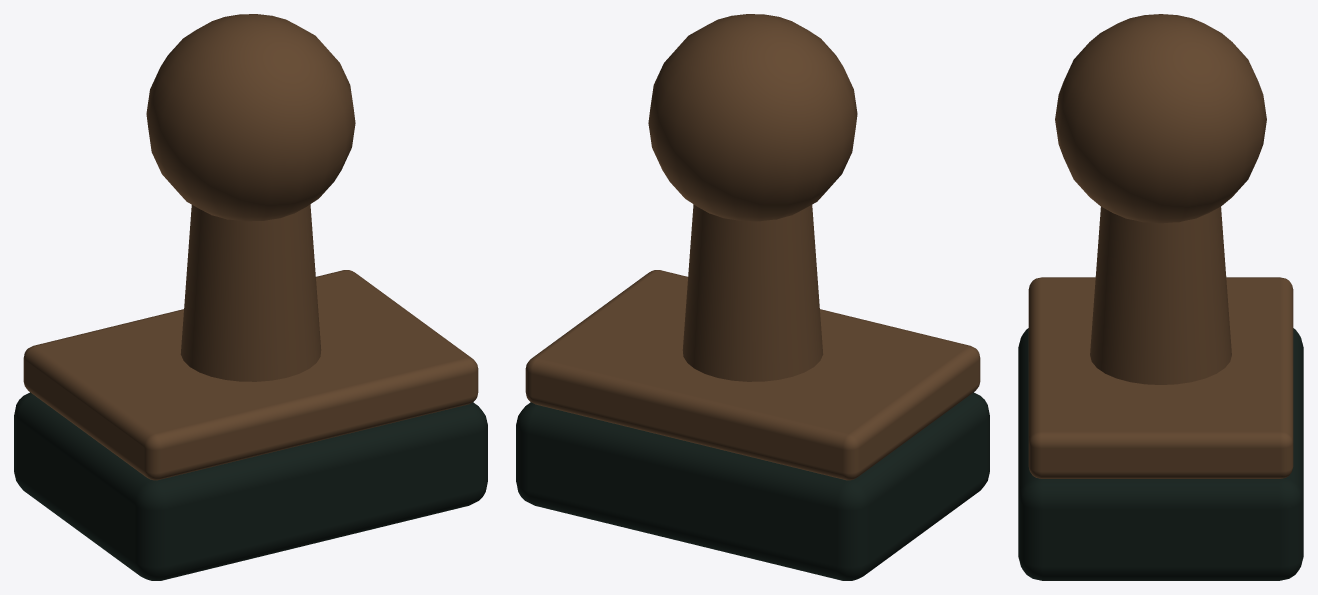
The model's file is stamp.glb.
3 renders of one model, left to right at view 1: azimuth 30°, elevation 25°; view 2: azimuth 150°, elevation 25°; view 3: azimuth 270°, elevation 25°, orthographic.
Visible parts, largest first — view 1: stamp; view 2: stamp; view 3: stamp.
Part boxes in pixels (x1,y1,x2,y2): stamp: (14,14,487,580); stamp: (516,14,989,580); stamp: (1018,14,1303,580).
Size of the model in its own units: 0.2 by 0.2595 by 0.14.
